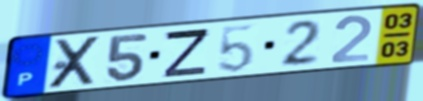2: (278, 18, 325, 69), (329, 13, 375, 65)
5: (105, 32, 151, 84), (216, 22, 257, 73)
X: (45, 34, 105, 92)
Z: (162, 27, 212, 79)
